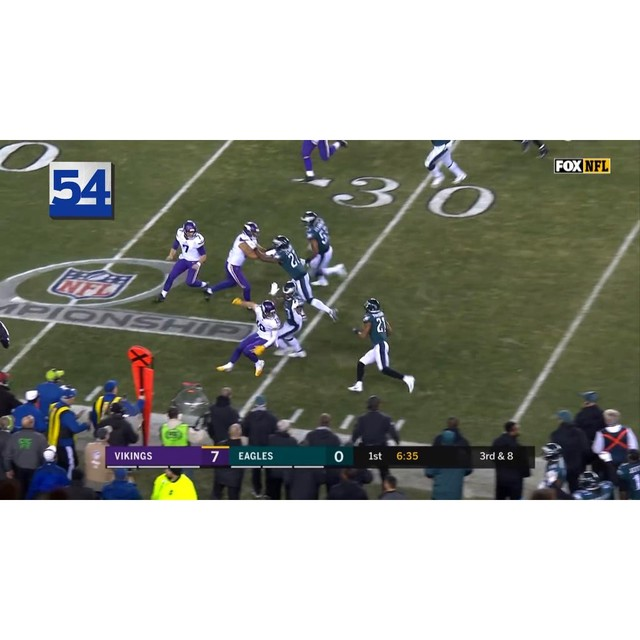american-football-player: (266, 235, 337, 324), (348, 298, 413, 395), (207, 220, 274, 311), (216, 298, 281, 378), (155, 221, 212, 304), (300, 210, 351, 287), (270, 279, 310, 361), (299, 140, 349, 182), (424, 141, 468, 188)
